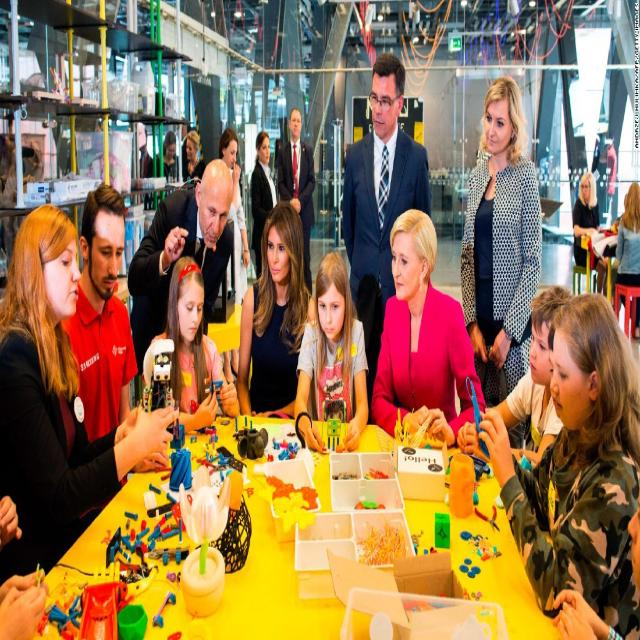body: (0, 198, 182, 592), (470, 285, 640, 639), (60, 180, 172, 516), (339, 51, 432, 424), (458, 73, 543, 451), (370, 206, 488, 450), (0, 104, 47, 640), (127, 158, 235, 378), (456, 284, 576, 468), (236, 196, 318, 419), (141, 254, 240, 436), (294, 249, 369, 454), (550, 482, 640, 640), (216, 125, 252, 389), (276, 105, 317, 298), (609, 180, 640, 343), (248, 128, 280, 280), (572, 170, 609, 298), (598, 132, 618, 225), (182, 128, 208, 190), (473, 108, 495, 176), (138, 127, 153, 210), (156, 129, 179, 183), (175, 120, 193, 184)
